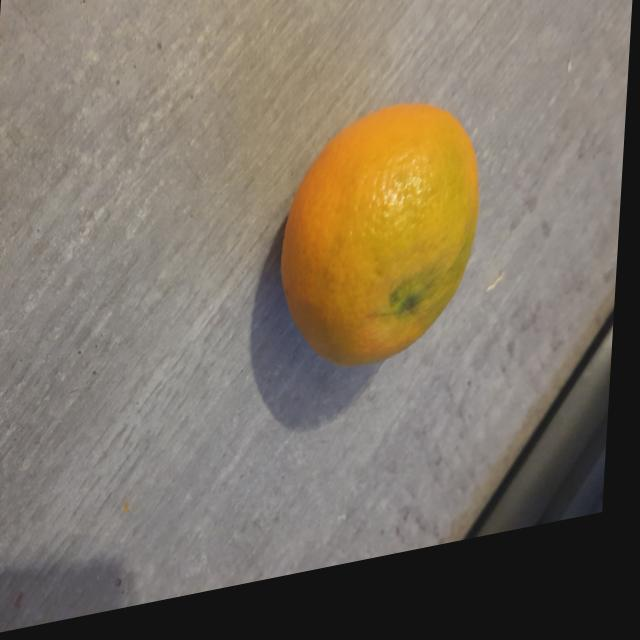Orange: (283, 120, 482, 384)
